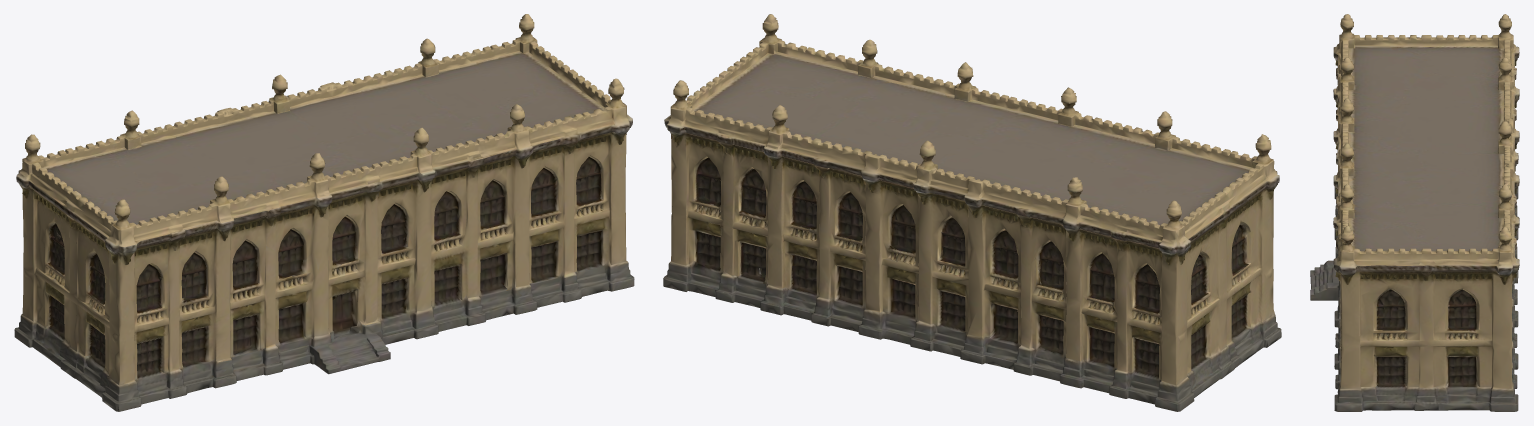
The model's file is tripo_convert_699d4f1e-363a-48a2-9827-0331edece3db.fbx.
3 views of the same model, side by side, from view 1: azimuth 30°, elevation 25°; view 2: azimuth 150°, elevation 25°; view 3: azimuth 270°, elevation 25° (orthographic). The views are drawn at different scales.
Parts seen in each view (by area): view 1: tripo_node_699d4f1e; view 2: tripo_node_699d4f1e; view 3: tripo_node_699d4f1e.
Boxes of the visible parts, bbox=[...] form: tripo_node_699d4f1e: bbox=[14, 14, 634, 411]; tripo_node_699d4f1e: bbox=[663, 14, 1281, 411]; tripo_node_699d4f1e: bbox=[1310, 14, 1519, 411].
Size of the model in its own units: 1 by 0.3758 by 0.3949.
Materials: 1 (1 with a texture image).
